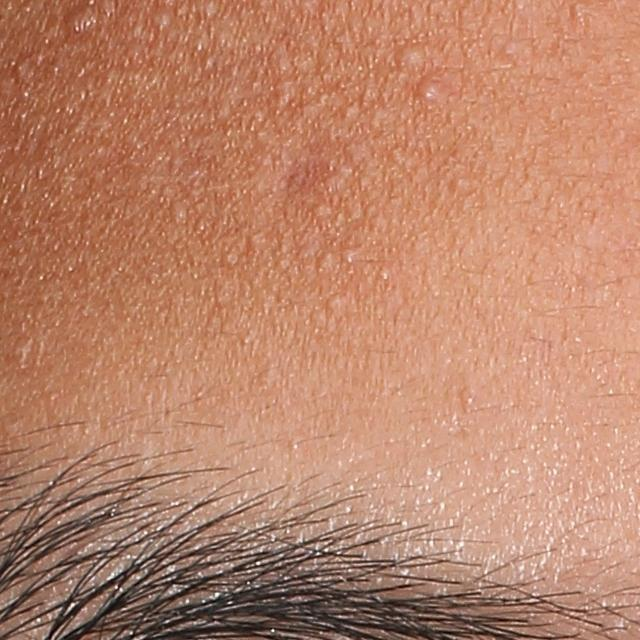comedo: (394, 44, 429, 73), (65, 10, 91, 38), (416, 78, 445, 103), (10, 339, 32, 363), (449, 175, 472, 195), (168, 198, 186, 222), (461, 385, 479, 405), (501, 39, 519, 57), (326, 291, 342, 311)
